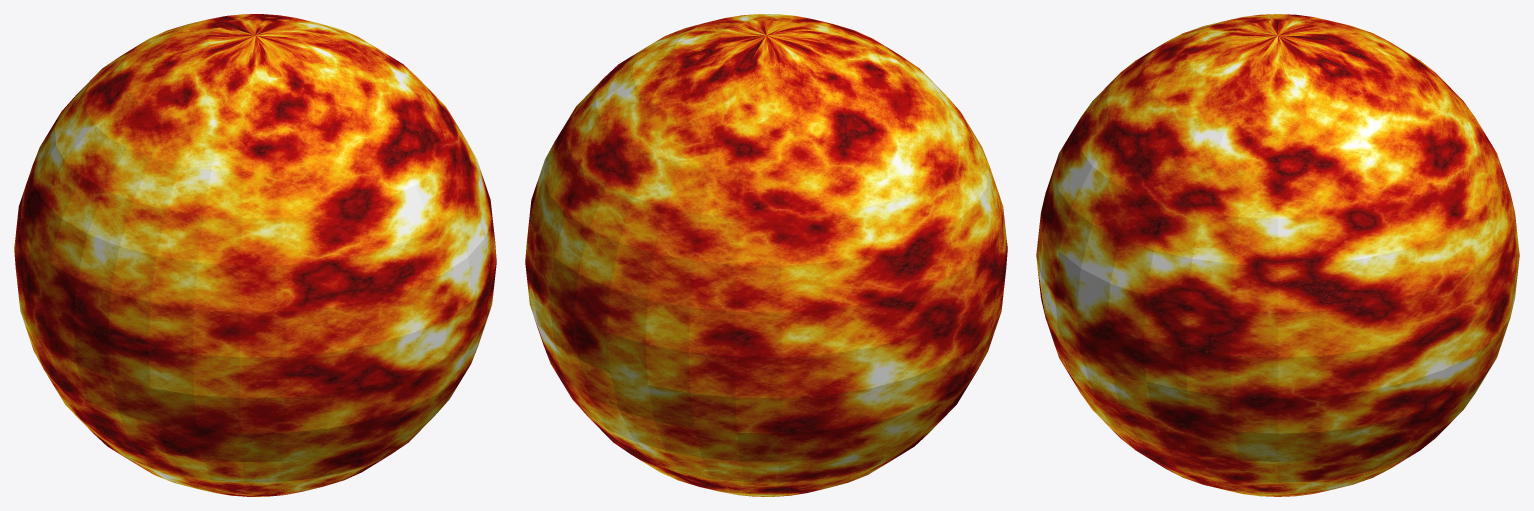
File: sun.obj
3 renders of one model, left to right at view 1: azimuth 30°, elevation 25°; view 2: azimuth 150°, elevation 25°; view 3: azimuth 270°, elevation 25°, orthographic.
Visible parts, largest first — view 1: Sphere; view 2: Sphere; view 3: Sphere.
Boxes of the visible parts, x1,y1,x2,y2 form: Sphere: [14, 14, 496, 496]; Sphere: [525, 14, 1007, 496]; Sphere: [1036, 14, 1519, 496].
Bounding box in the file's own units: 2 × 2.01 × 2.
Materials: 1 (1 with a texture image).
